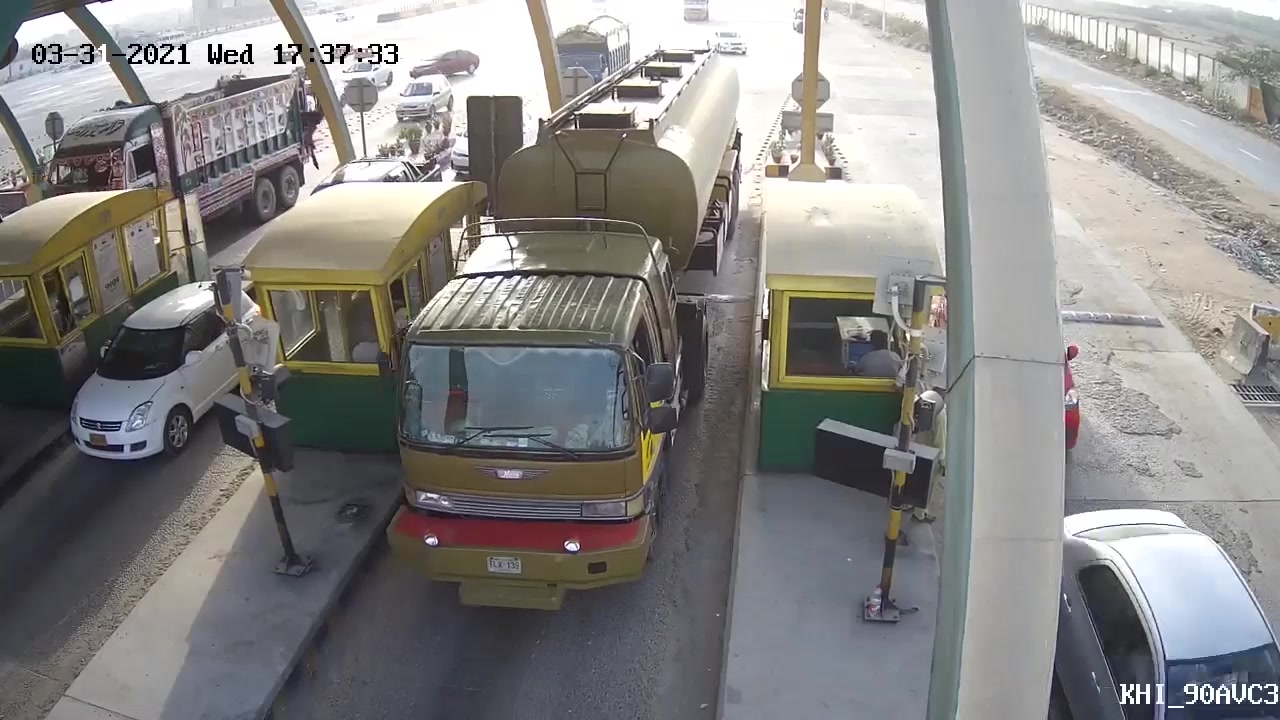F6: (382, 49, 745, 614)
